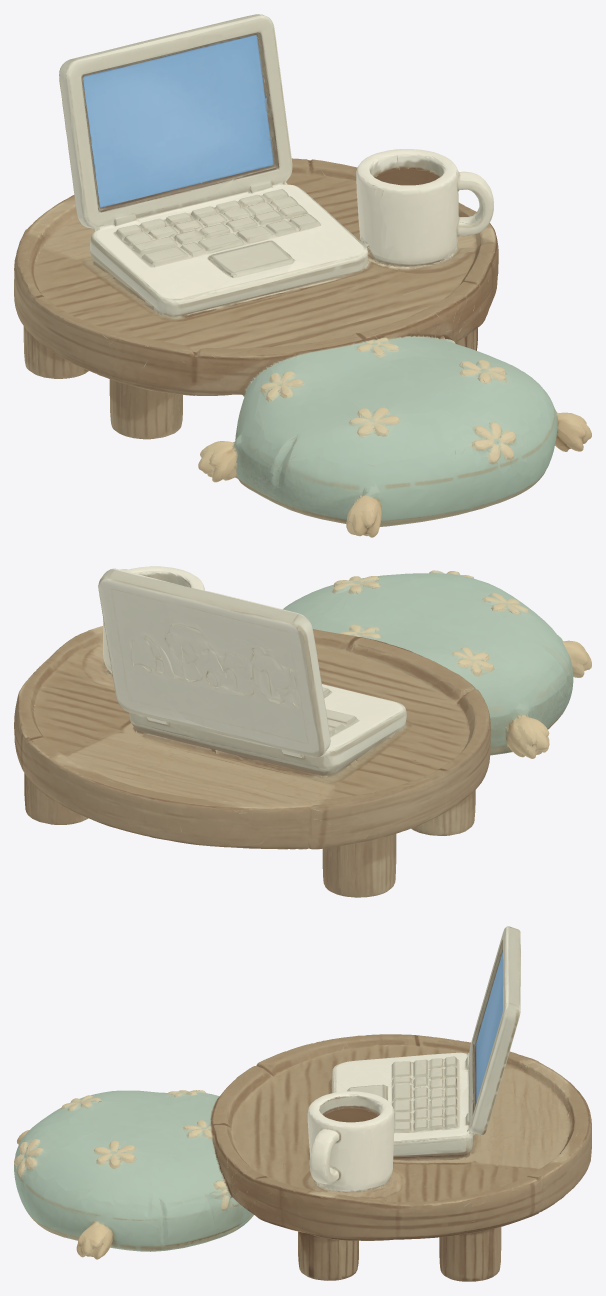
File: round-laptop-workstation-smooth-cartoon-v1.glb
The picture shows the model from 3 angles, top to bottom: view 1: azimuth 30°, elevation 25°; view 2: azimuth 150°, elevation 25°; view 3: azimuth 270°, elevation 25°; orthographic projection. The views are drawn at different scales.
Visible parts, largest first — view 1: round-laptop-workstation-flat-source-v4; view 2: round-laptop-workstation-flat-source-v4; view 3: round-laptop-workstation-flat-source-v4.
Boxes of the visible parts, x1,y1,x2,y2 form: round-laptop-workstation-flat-source-v4: (14, 14, 591, 537); round-laptop-workstation-flat-source-v4: (14, 566, 591, 897); round-laptop-workstation-flat-source-v4: (14, 926, 591, 1281).
Bounding box in the file's own units: 1.35 × 0.8513 × 1.9.
1 material, 1 textured.
